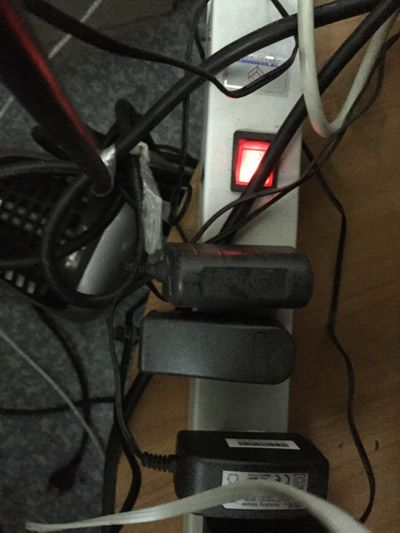Three_eye_plug: (174, 1, 326, 533)
